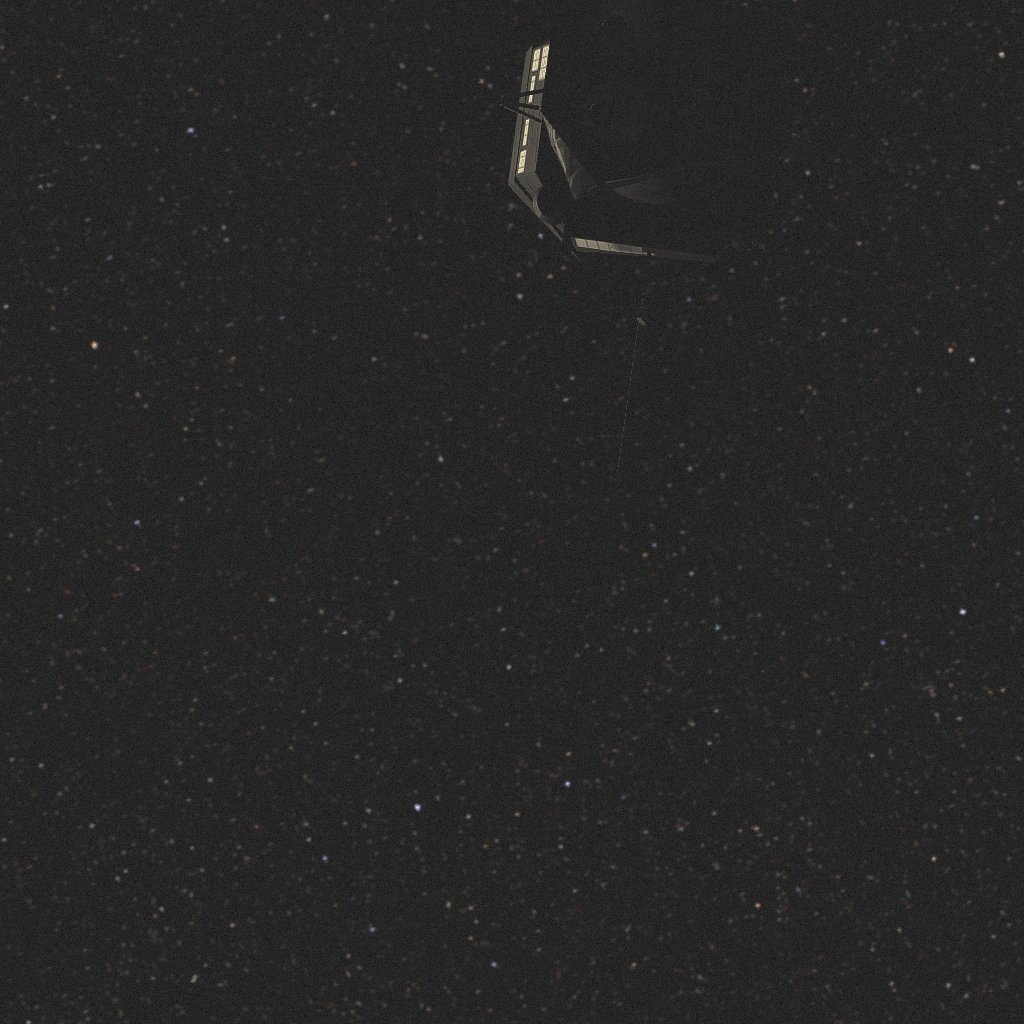xmm_newton: (474, 0, 844, 798)
